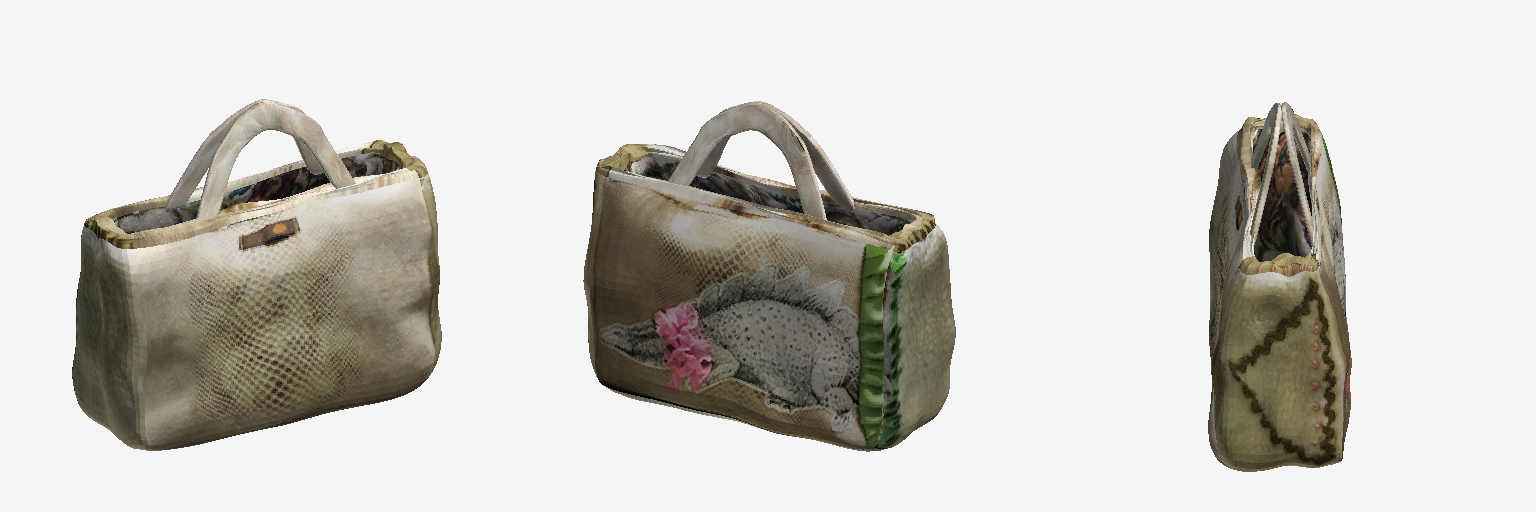
3 renders of one model, left to right at view 1: azimuth 30°, elevation 25°; view 2: azimuth 150°, elevation 25°; view 3: azimuth 270°, elevation 25°, orthographic.
Visible parts, largest first — view 1: 2017nenga_2.obj; view 2: 2017nenga_2.obj; view 3: 2017nenga_2.obj.
Part boxes in pixels (x1,y1,x2,y2): 2017nenga_2.obj: (72, 99, 441, 450); 2017nenga_2.obj: (583, 101, 955, 451); 2017nenga_2.obj: (1208, 102, 1351, 471).
Bounding box in the file's own units: 4.17 × 3.79 × 1.61.
2 materials, 1 textured.